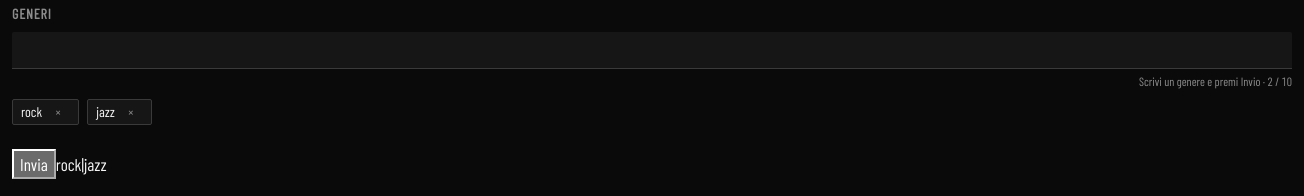
Test case: GenreInput › «Togli» elimina il chip
This screenshot has width=1304, height=196.
Click the button named "Togli rock": [58, 112] box [46,100,70,124]
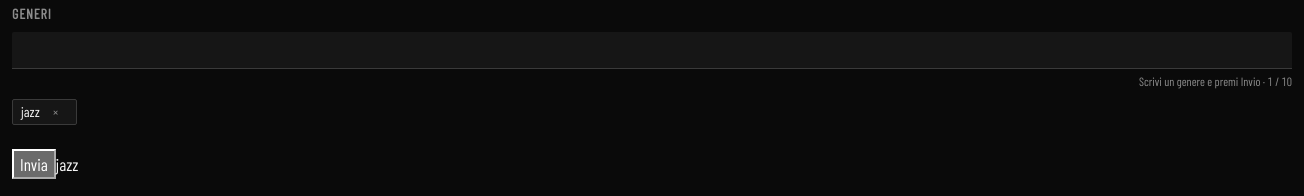
Expected: the text with test id "tags" reads "jazz", [56,154,78,174]
